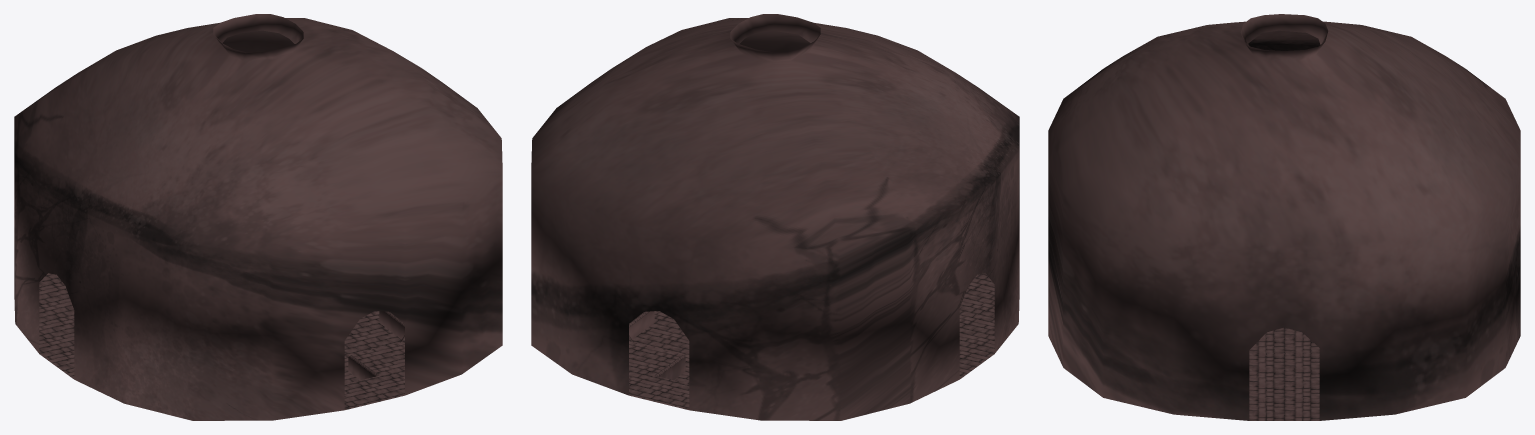
File: MOD_L1_Room1.fbx
3 renders of one model, left to right at view 1: azimuth 30°, elevation 25°; view 2: azimuth 150°, elevation 25°; view 3: azimuth 270°, elevation 25°, orthographic.
Visible parts, largest first — view 1: Room01_Main; view 2: Room01_Main; view 3: Room01_Main.
Part boxes in pixels (x1,y1,x2,y2): Room01_Main: [14, 14, 502, 420]; Room01_Main: [531, 14, 1019, 420]; Room01_Main: [1048, 14, 1520, 420].
Bounding box in the file's own units: 252 × 181 × 252.
